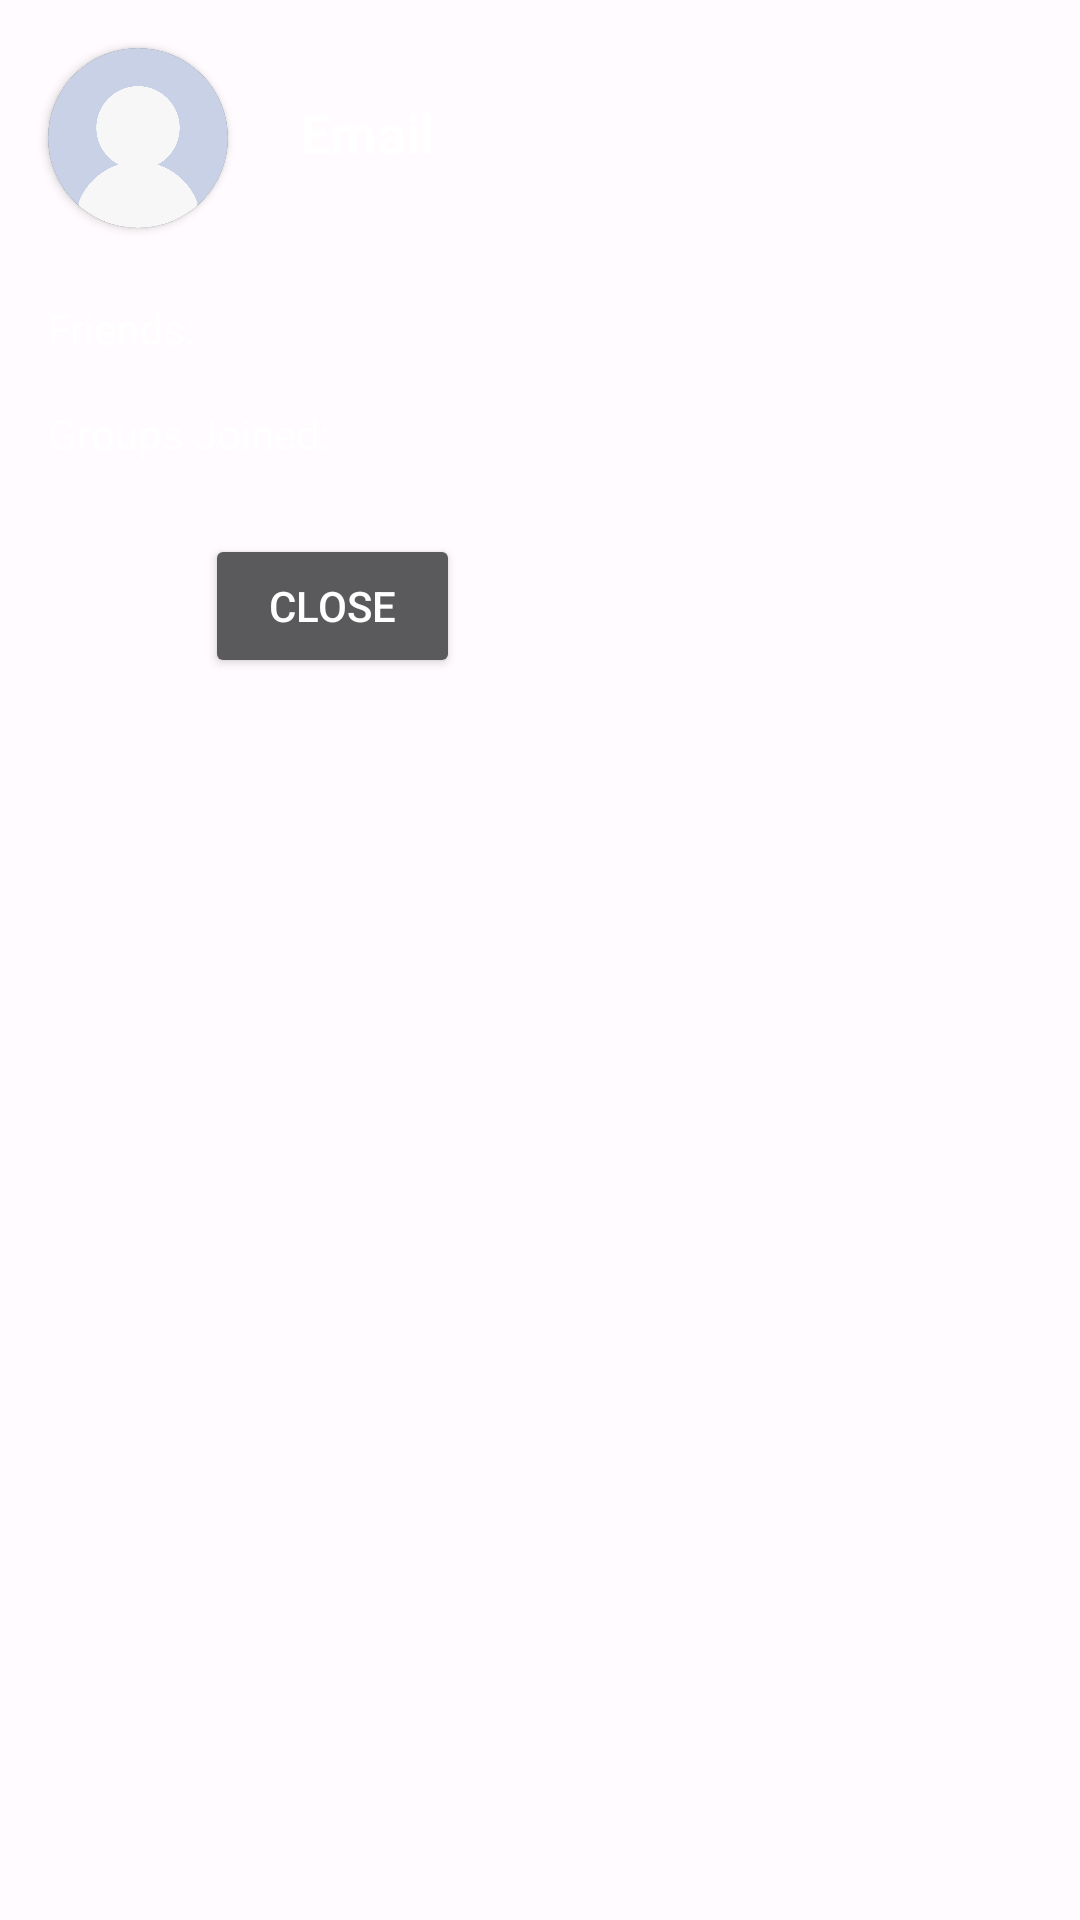

Icon click points for this 1080*1920 phone screenshot, format point (x, y):
Profile Picture: point (138, 138)
